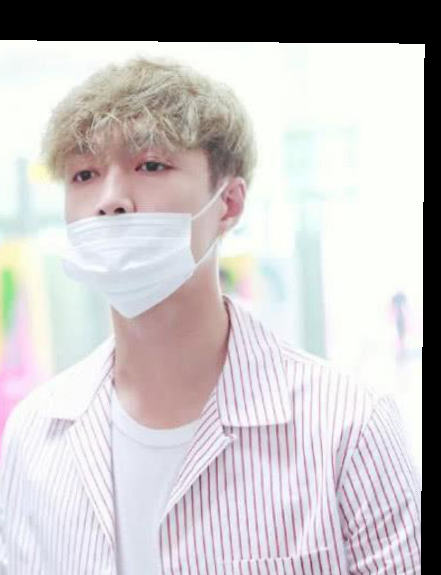mask_weared_incorrect: (35, 40, 272, 350)
